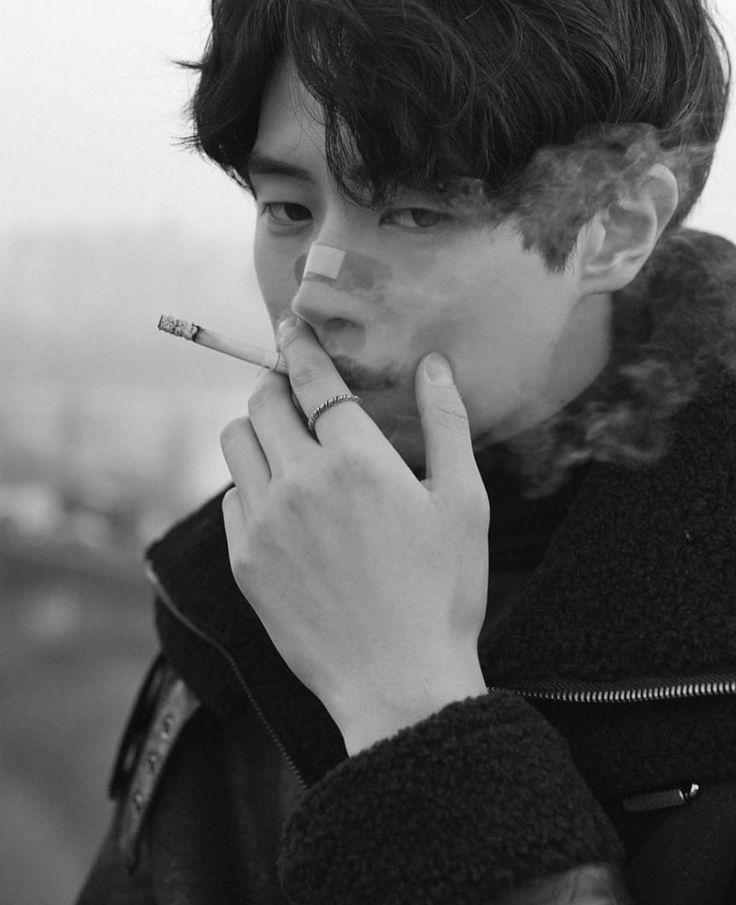cigarette: (158, 313, 290, 376)
